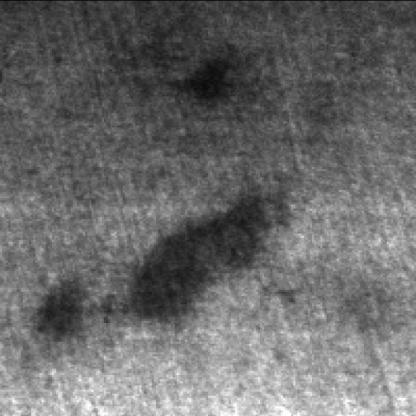patches: (110, 187, 294, 319), (34, 272, 118, 346), (176, 44, 249, 106)
